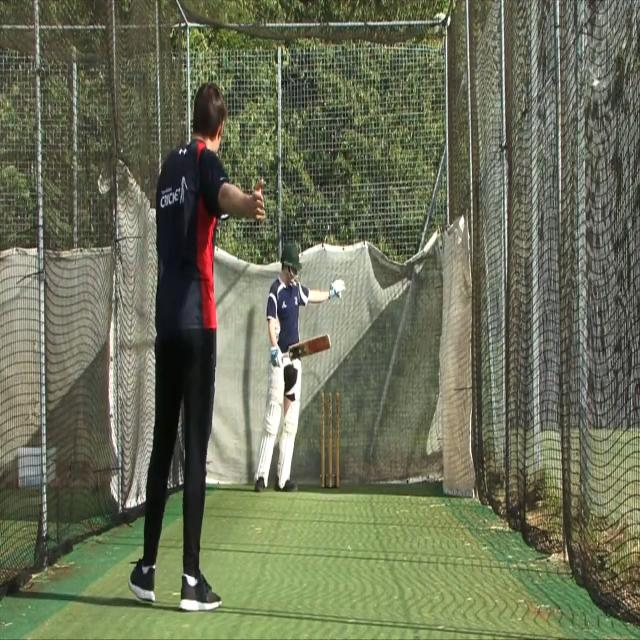batsman: (252, 241, 347, 495)
